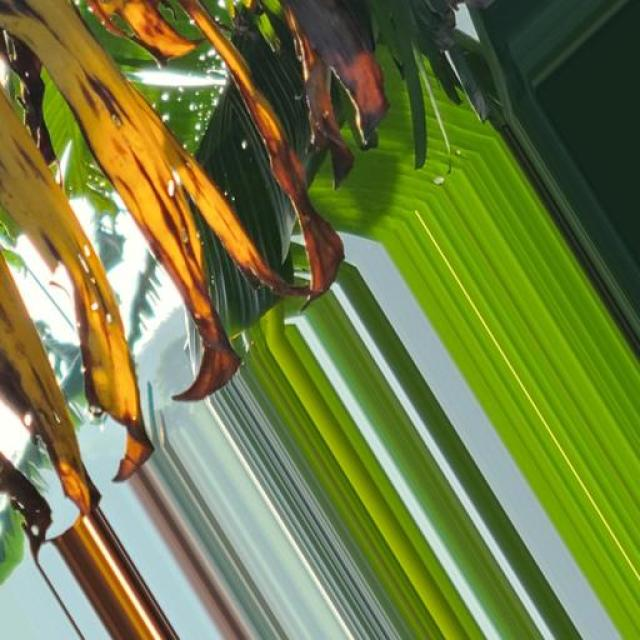Cordana: (0, 0, 430, 556)
